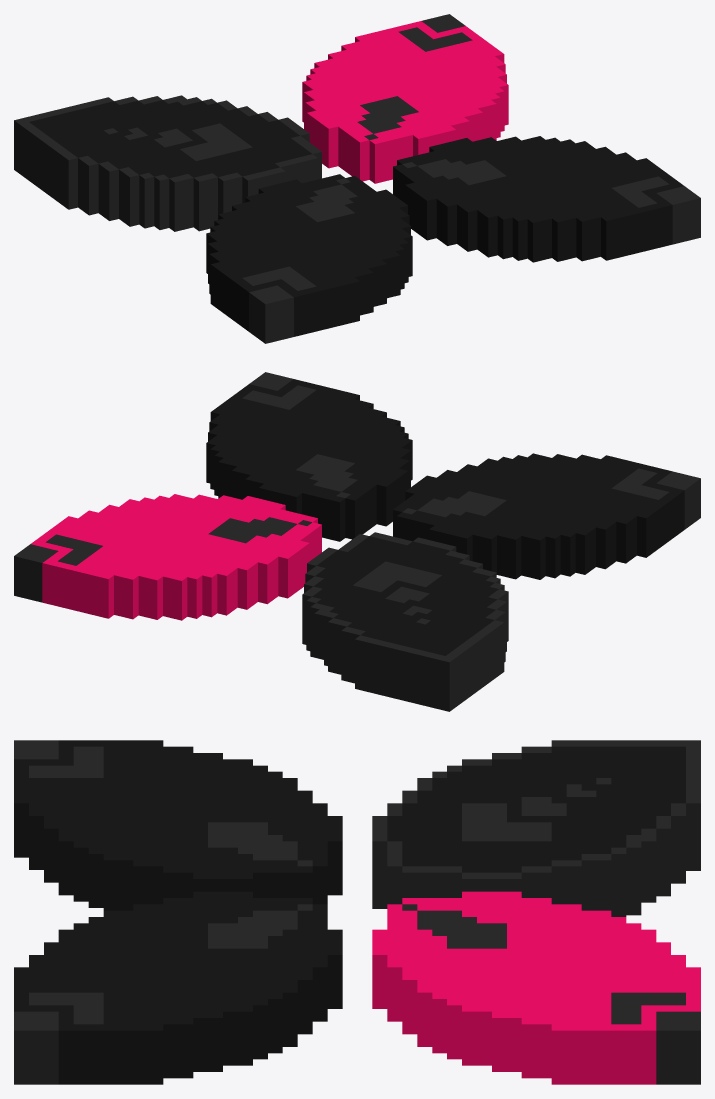
File: TrapAspaBlackGrand.FBX
3 renders of one model, top to bottom at view 1: azimuth 30°, elevation 25°; view 2: azimuth 150°, elevation 25°; view 3: azimuth 270°, elevation 25°, orthographic. The views are drawn at different scales.
Parts seen in each view (by area): view 1: TrampaAspaBlackGrand; view 2: TrampaAspaBlackGrand; view 3: TrampaAspaBlackGrand.
Boxes of the visible parts, x1,y1,x2,y2 form: TrampaAspaBlackGrand: [14, 14, 700, 343]; TrampaAspaBlackGrand: [14, 372, 700, 711]; TrampaAspaBlackGrand: [14, 740, 700, 1084].
Bounding box in the file's own units: 0.7259 × 0.0789 × 0.7259.
1 material, 1 textured.
